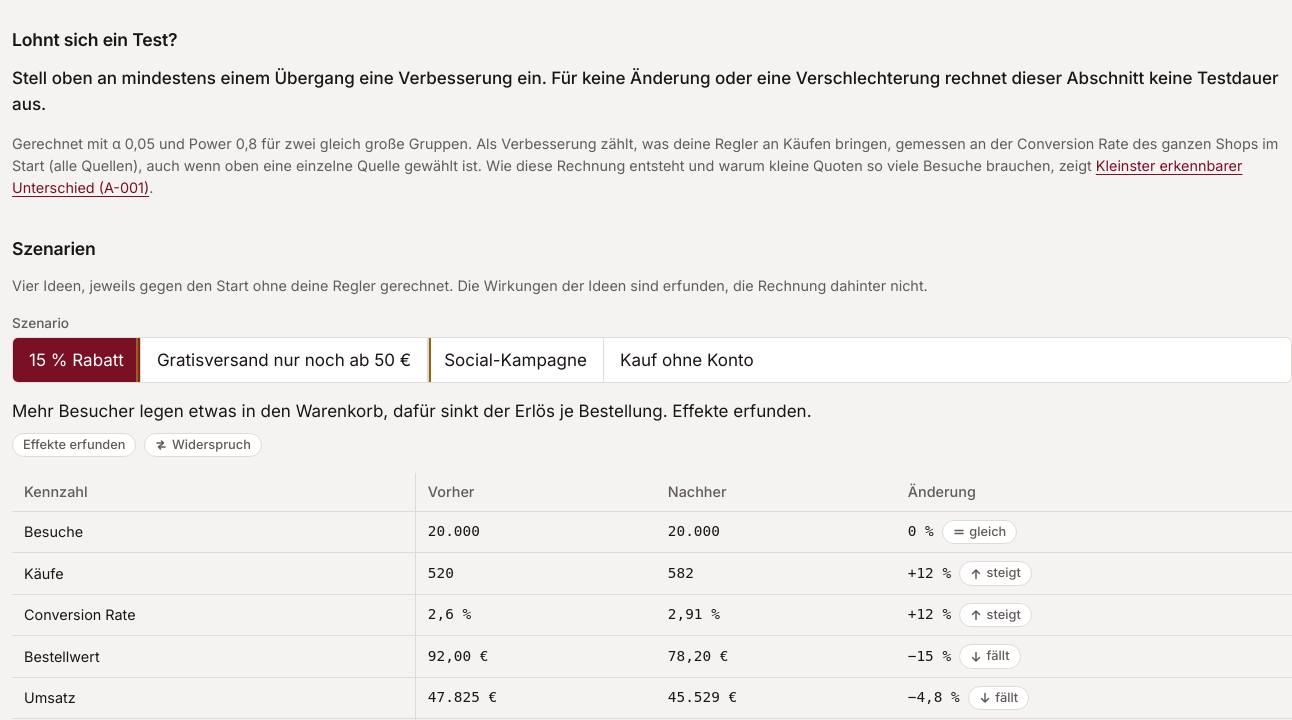
it: D-003 Demo: Szenarien › freeShipping: Tabelle, Richtungen mit Wort, Widerspruch und Erkenntnis passen zusammen
(page scrolled)
What coordinates should you click on to do the following:
click the button "Gratisversand nur noch ab 50 €"
I would click on:
 (284, 360)
Its box is top-left (140, 338), bottom-right (427, 382).
(page scrolled)
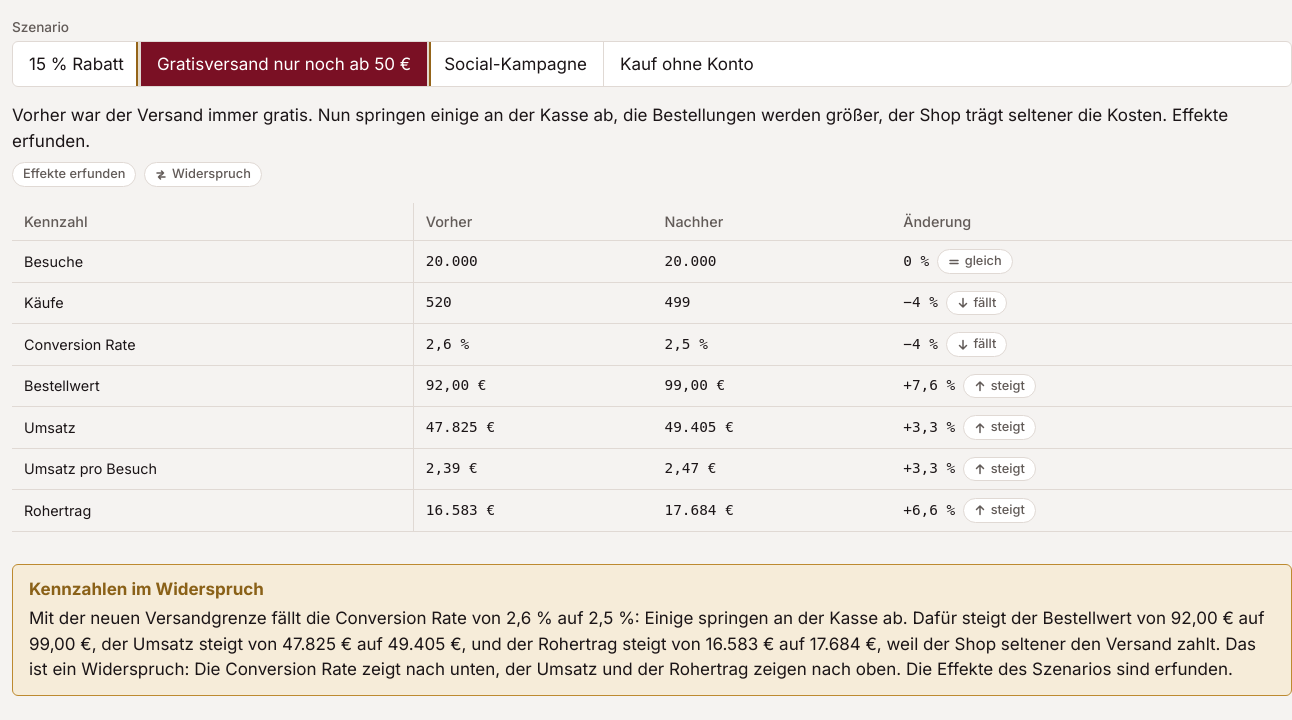
Expected: the 2nd icon is shown, top-left (948, 256), bottom-right (960, 268)
Result: the row "Conversion Rate 2,6 % 2,5 % −4 % fällt" is shown at top-left (12, 324), bottom-right (1291, 366)
